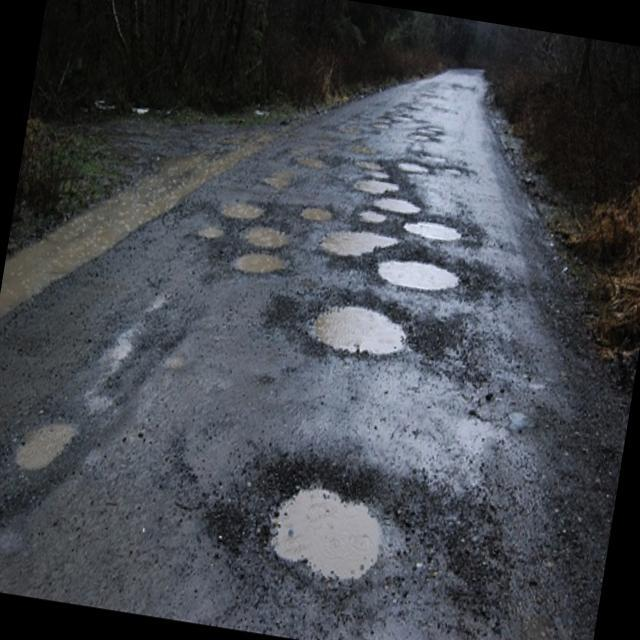Pothole: (239, 448, 415, 606), (292, 286, 439, 382), (8, 395, 104, 495), (314, 225, 406, 278), (374, 256, 476, 296), (402, 218, 479, 255), (278, 198, 350, 232), (228, 252, 288, 290), (286, 147, 348, 183), (364, 191, 434, 222), (346, 196, 396, 238), (238, 226, 304, 253), (426, 153, 477, 185), (214, 203, 278, 227), (394, 153, 442, 182), (354, 175, 407, 199), (350, 149, 390, 174), (196, 225, 228, 248), (262, 179, 298, 190)
